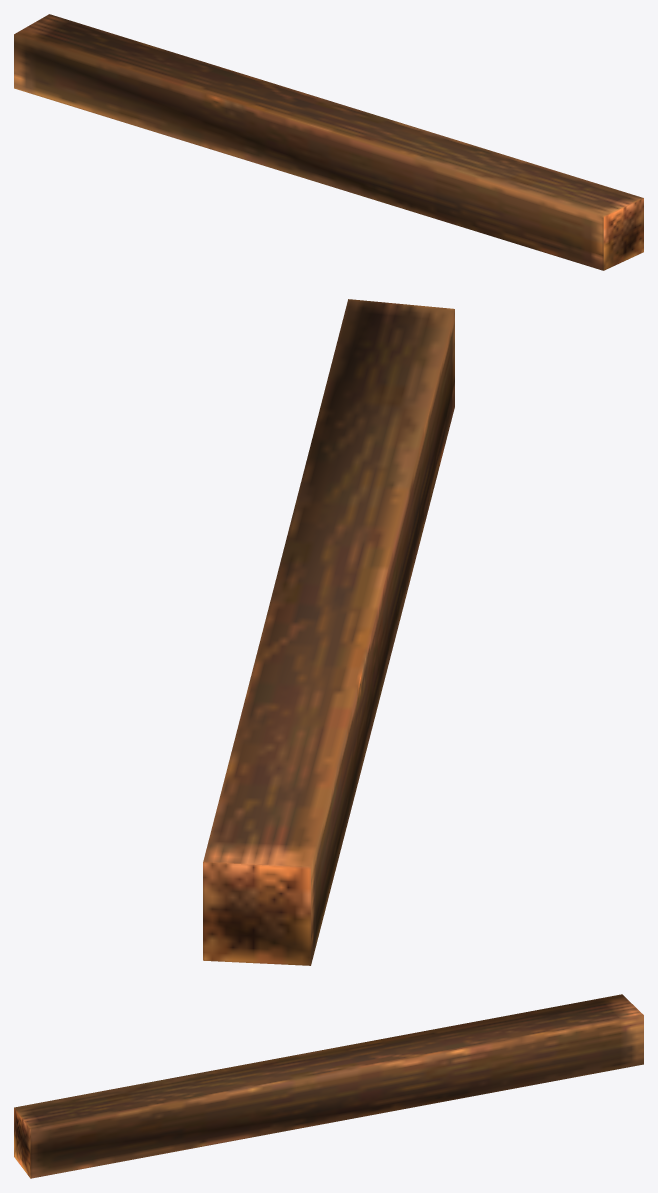
File: SWORDLIGHT20_JAILBRACE57.fbx
The picture shows the model from 3 angles, top to bottom: view 1: azimuth 30°, elevation 25°; view 2: azimuth 150°, elevation 25°; view 3: azimuth 270°, elevation 25°; orthographic projection. The views are drawn at different scales.
Parts seen in each view (by area): view 1: SWORDLIGHT20_JAILBRACE57; view 2: SWORDLIGHT20_JAILBRACE57; view 3: SWORDLIGHT20_JAILBRACE57.
Boxes of the visible parts, x1,y1,x2,y2 form: SWORDLIGHT20_JAILBRACE57: (14,14,643,270); SWORDLIGHT20_JAILBRACE57: (203,299,454,965); SWORDLIGHT20_JAILBRACE57: (14,994,643,1178).
Size of the model in its own units: 23581 by 4000 by 46411.
Materials: 1 (1 with a texture image).
